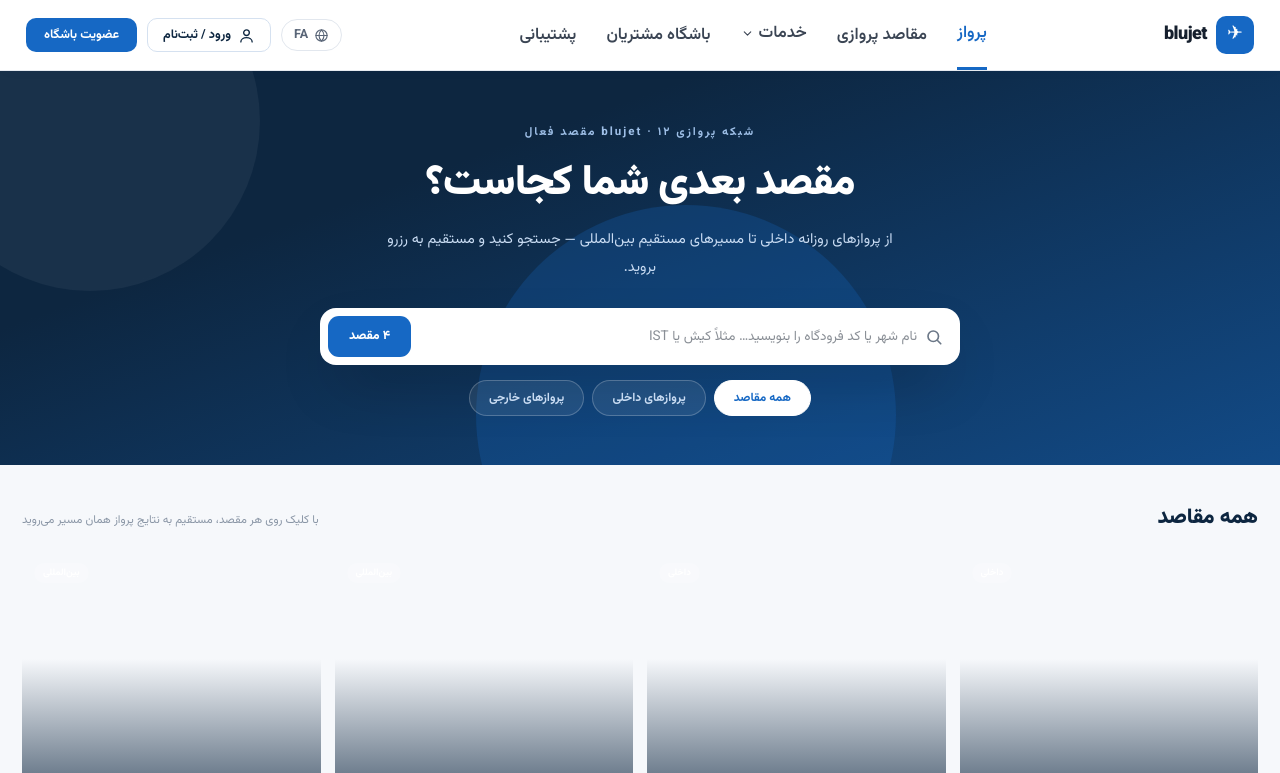
Test: DestinationsPage › shows the empty state for an unmatched search
Type "XYZ123" into the field with placeholder "نام شهر یا کد فرودگاه را بنویسید… مثلاً کیش یا IST".
click(668, 337); type("XYZ123")  # box x1=419 y1=327 x2=917 y2=347
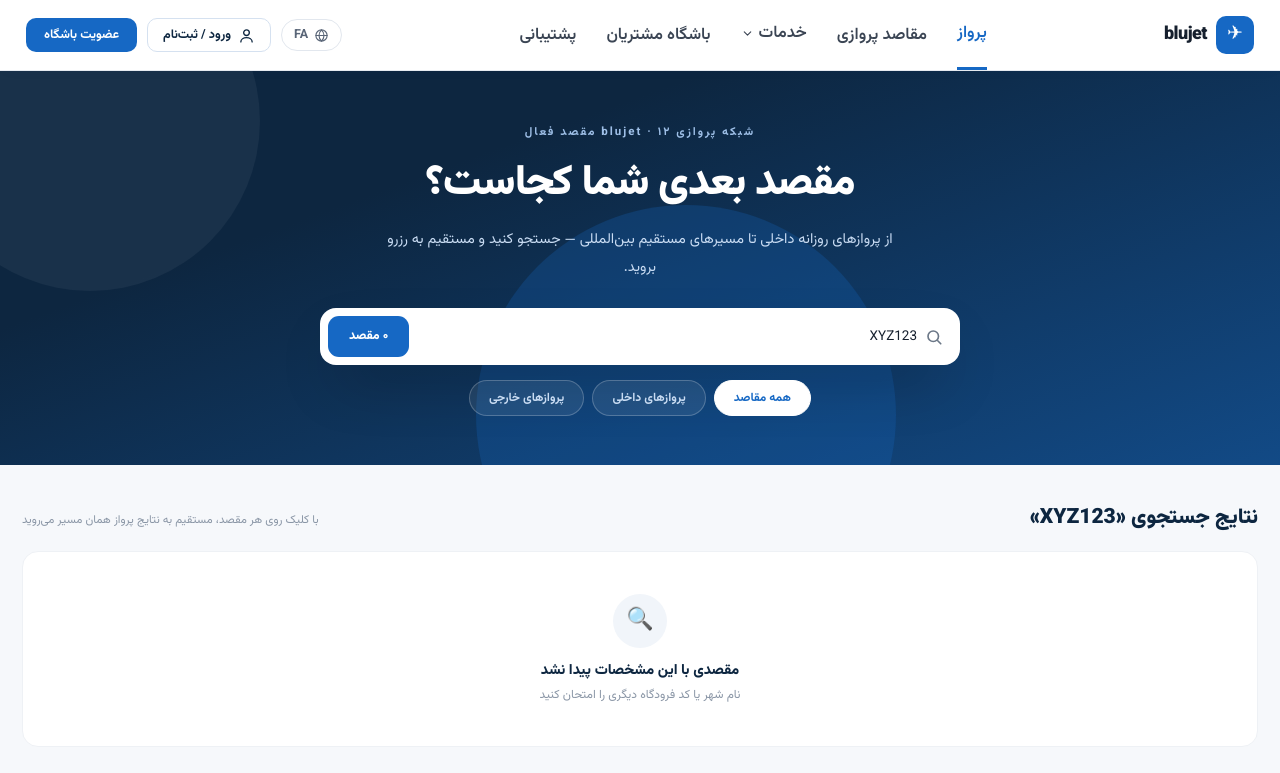
Expected: the text "مقصدی با این مشخصات پیدا نشد" is shown, x1=541 y1=659 x2=739 y2=682
